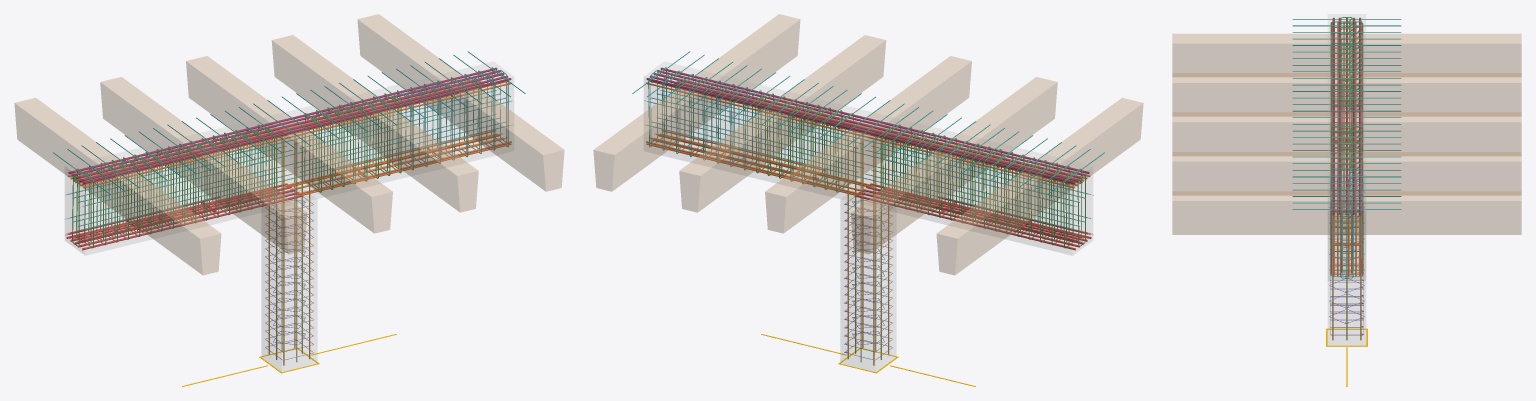
File: unterzug-441-vorort17-ft.glb
3 renders of one model, left to right at view 1: azimuth 30°, elevation 25°; view 2: azimuth 150°, elevation 25°; view 3: azimuth 270°, elevation 25°, orthographic. The views are drawn at different scales.
Visible parts, largest first — view 1: Beton, Fertigteiltraeger_1, Fertigteiltraeger_4, Fertigteiltraeger_5, Fertigteiltraeger_2, Fertigteiltraeger_3, Pos_18_2, Pos_17_2, Pos_18_1, Pos_16_1, Pos_17_1, Pos_10_2 (+7 smaller); view 2: Beton, Fertigteiltraeger_1, Fertigteiltraeger_5, Fertigteiltraeger_4, Fertigteiltraeger_3, Fertigteiltraeger_2, Pos_17_1, Pos_18_2, Pos_18_1, Pos_16_1, Pos_17_2, Pos_10_1 (+7 smaller); view 3: Fertigteiltraeger_5, Fertigteiltraeger_3, Fertigteiltraeger_4, Fertigteiltraeger_2, Fertigteiltraeger_1, Beton, Pos_17_1, Pos_17_2, Pos_18_2, Pos_18_1, Pos_16_1, Pos_11_1 (+4 smaller).
Boxes of the visible parts, x1,y1,x2,y2 form: Beton: [65, 62, 513, 371]; Fertigteiltraeger_1: [14, 98, 220, 275]; Fertigteiltraeger_4: [272, 35, 478, 212]; Fertigteiltraeger_5: [357, 14, 564, 191]; Fertigteiltraeger_2: [100, 77, 306, 254]; Fertigteiltraeger_3: [186, 56, 392, 233]; Pos_18_2: [82, 78, 511, 184]; Pos_17_2: [79, 75, 508, 182]; Pos_18_1: [68, 67, 497, 173]; Pos_16_1: [75, 72, 504, 179]; Pos_17_1: [71, 70, 500, 176]; Pos_10_2: [83, 82, 511, 188]; Beton: [644, 62, 1092, 371]; Fertigteiltraeger_1: [937, 98, 1143, 275]; Fertigteiltraeger_5: [593, 14, 800, 191]; Fertigteiltraeger_4: [679, 35, 885, 212]; Fertigteiltraeger_3: [765, 56, 971, 233]; Fertigteiltraeger_2: [851, 77, 1057, 254]; Pos_17_1: [649, 75, 1078, 182]; Pos_18_2: [660, 67, 1089, 173]; Pos_18_1: [646, 78, 1075, 184]; Pos_16_1: [653, 72, 1082, 179]; Pos_17_2: [658, 70, 1086, 176]; Pos_10_1: [646, 82, 1074, 188]; Fertigteiltraeger_5: [1172, 191, 1521, 234]; Fertigteiltraeger_3: [1172, 112, 1521, 155]; Fertigteiltraeger_4: [1172, 152, 1521, 195]; Fertigteiltraeger_2: [1172, 73, 1521, 116]; Fertigteiltraeger_1: [1172, 34, 1521, 76]; Beton: [1328, 14, 1365, 344]; Pos_17_1: [1353, 17, 1355, 214]; Pos_17_2: [1338, 17, 1340, 214]; Pos_18_2: [1332, 17, 1334, 214]; Pos_18_1: [1359, 17, 1361, 214]; Pos_16_1: [1346, 18, 1347, 214]; Pos_11_1: [1355, 22, 1356, 218].
Size of the model in its own units: 6.1 by 3.2 by 4.5.
